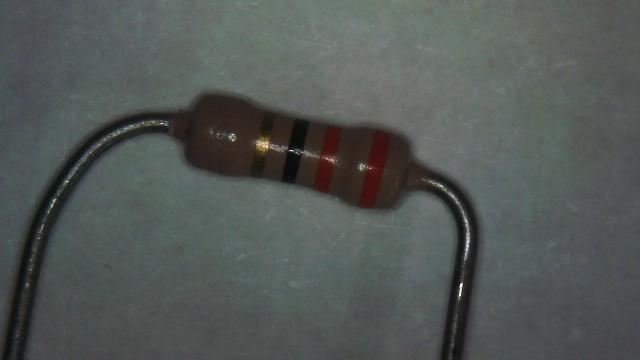black: (282, 119, 308, 183)
gold: (250, 112, 276, 176)
orange: (359, 130, 392, 207), (314, 124, 342, 192)
resistor: (167, 61, 425, 246)
